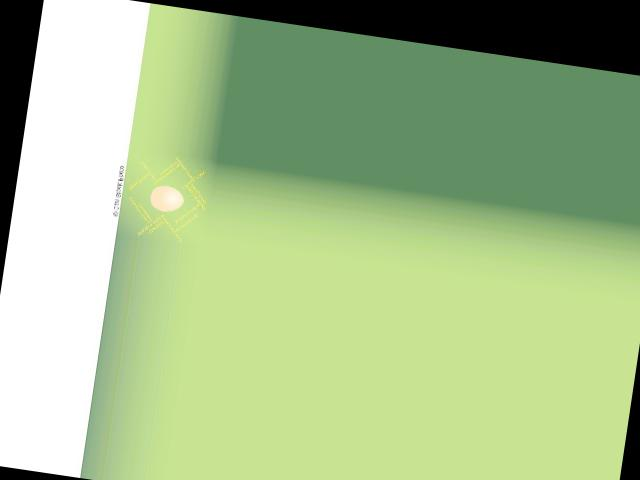egg: (148, 183, 185, 213)
